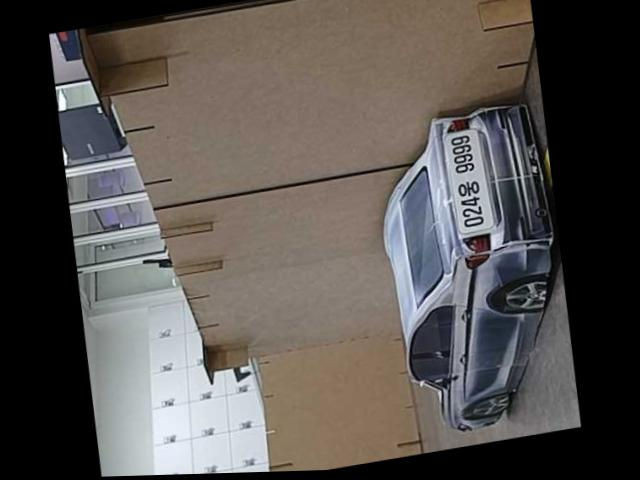car: (352, 87, 584, 451)
id: (437, 124, 498, 247)
